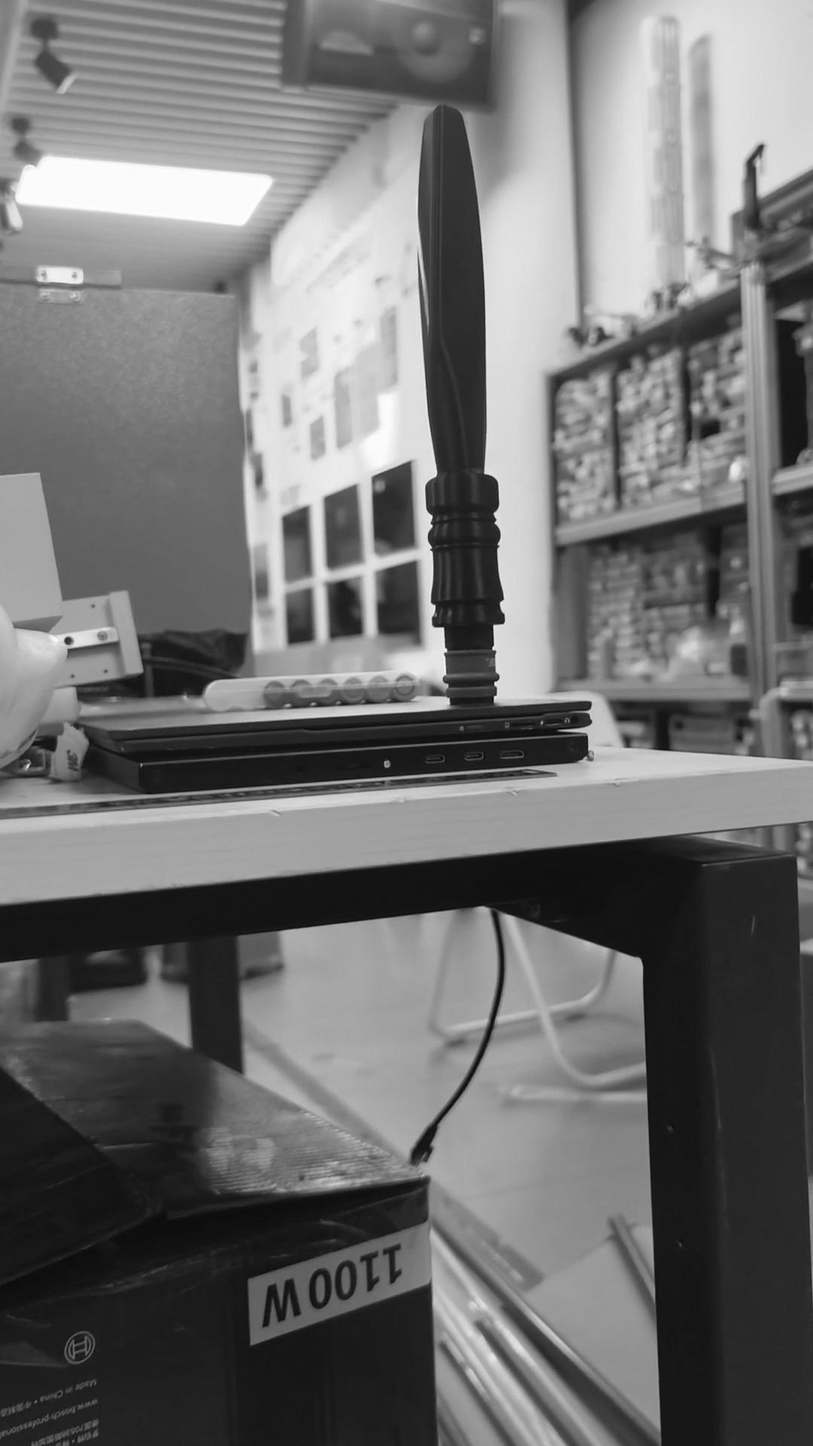base: (437, 641, 509, 726)
